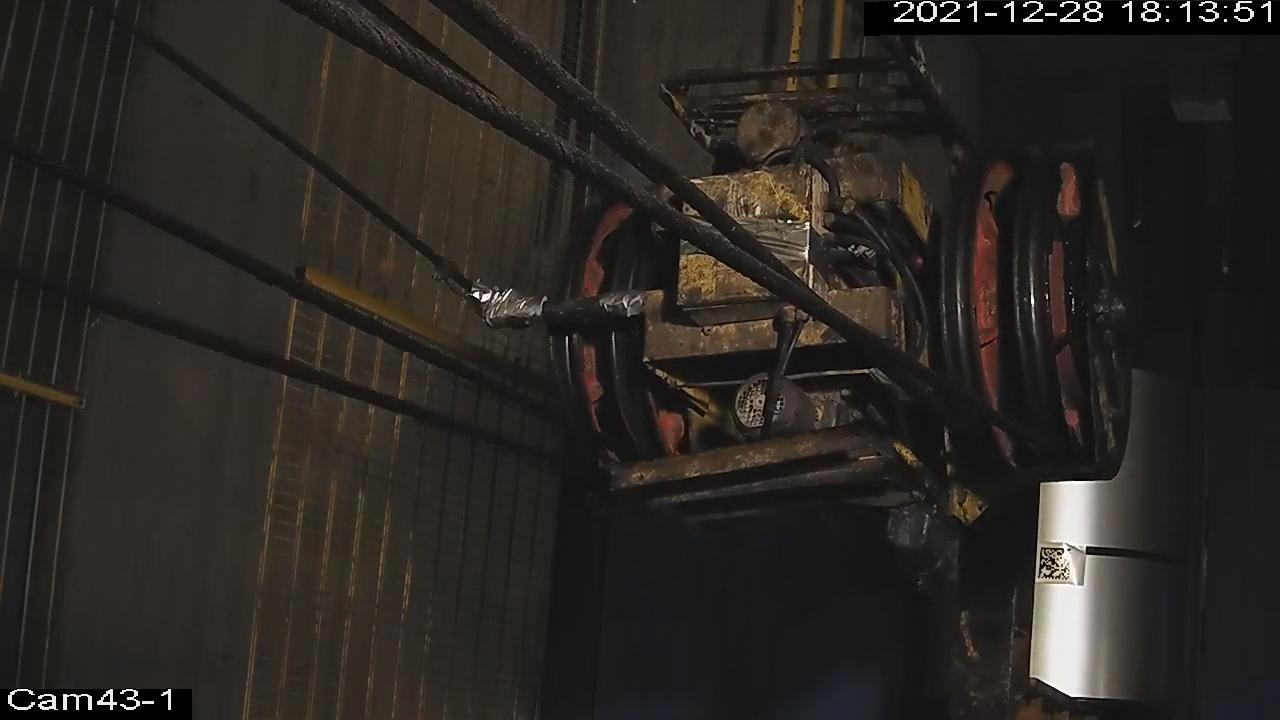data matrix: (1036, 545, 1078, 585)
